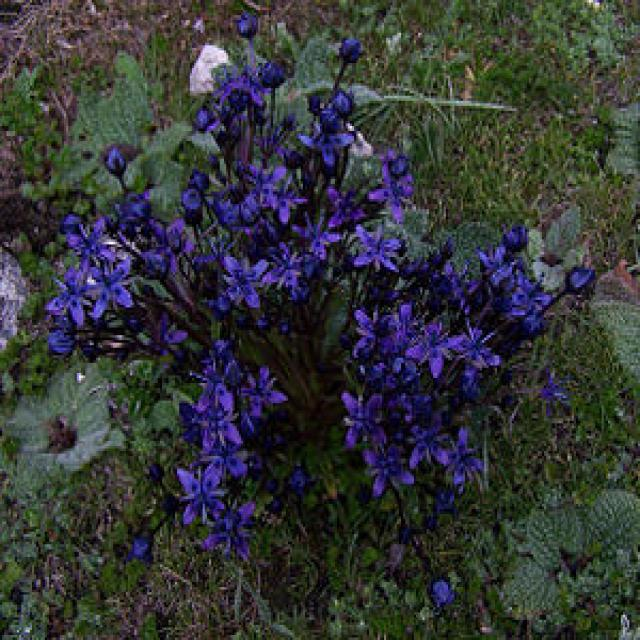Chirata: (53, 7, 640, 591), (80, 194, 621, 640), (324, 51, 628, 453), (228, 145, 502, 476), (35, 183, 327, 447), (176, 9, 328, 198)
